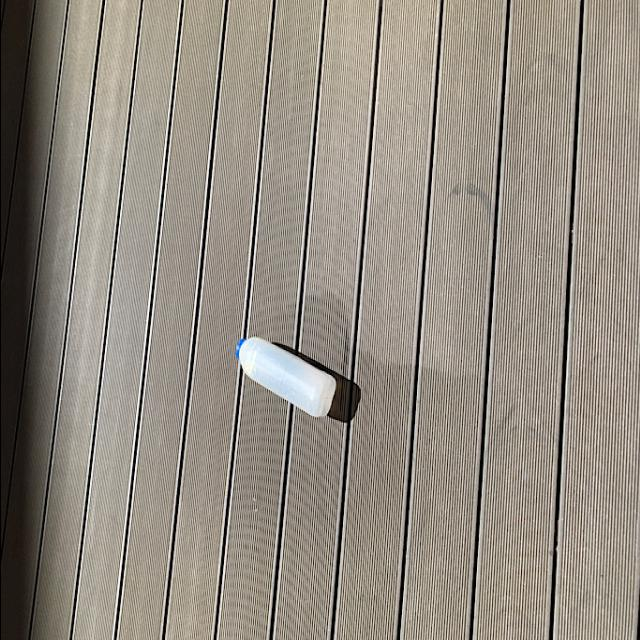litter: (232, 330, 340, 425)
